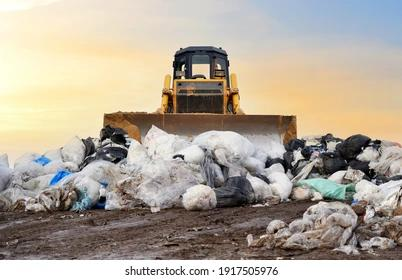garbage: (8, 141, 397, 238)
